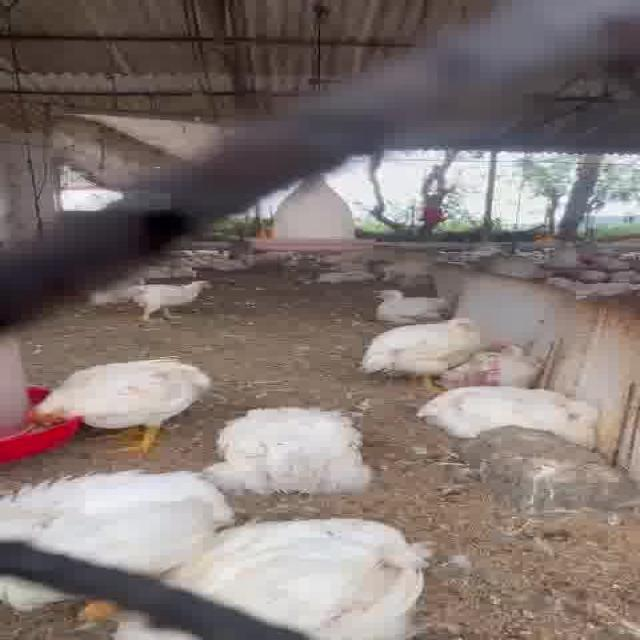AbNormal: (128, 516, 471, 640), (0, 464, 236, 599), (207, 400, 415, 494), (422, 384, 630, 451), (459, 338, 573, 385), (360, 284, 470, 324)
Normal: (39, 350, 251, 460), (79, 266, 251, 330), (342, 317, 505, 378)
